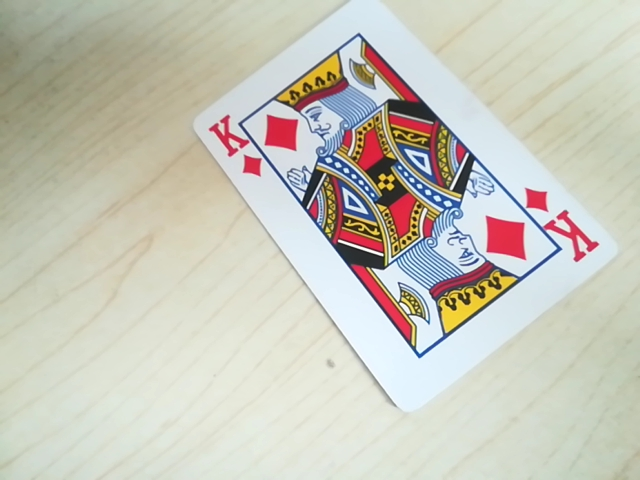fk k: (529, 192, 597, 260), (201, 120, 267, 174)
